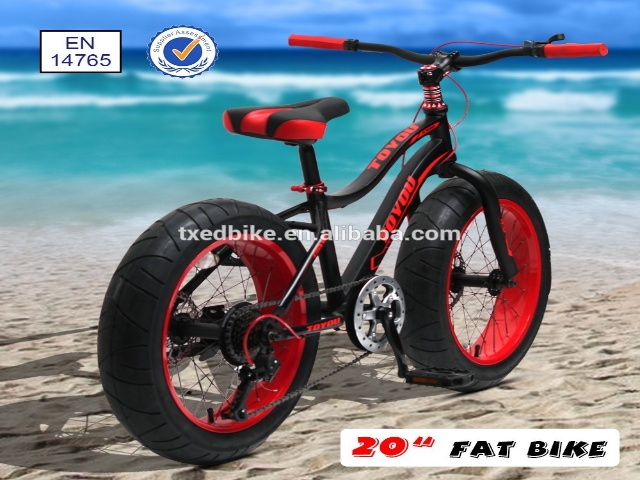bike: (93, 11, 618, 467)
